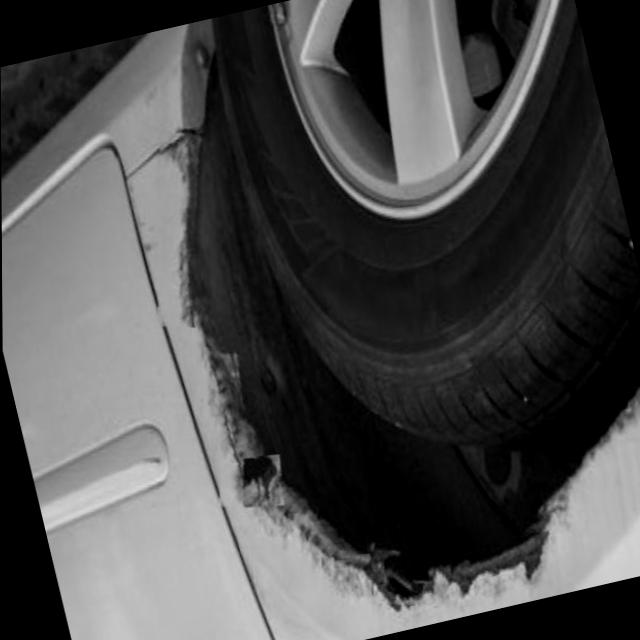Rust: (147, 128, 640, 613)
